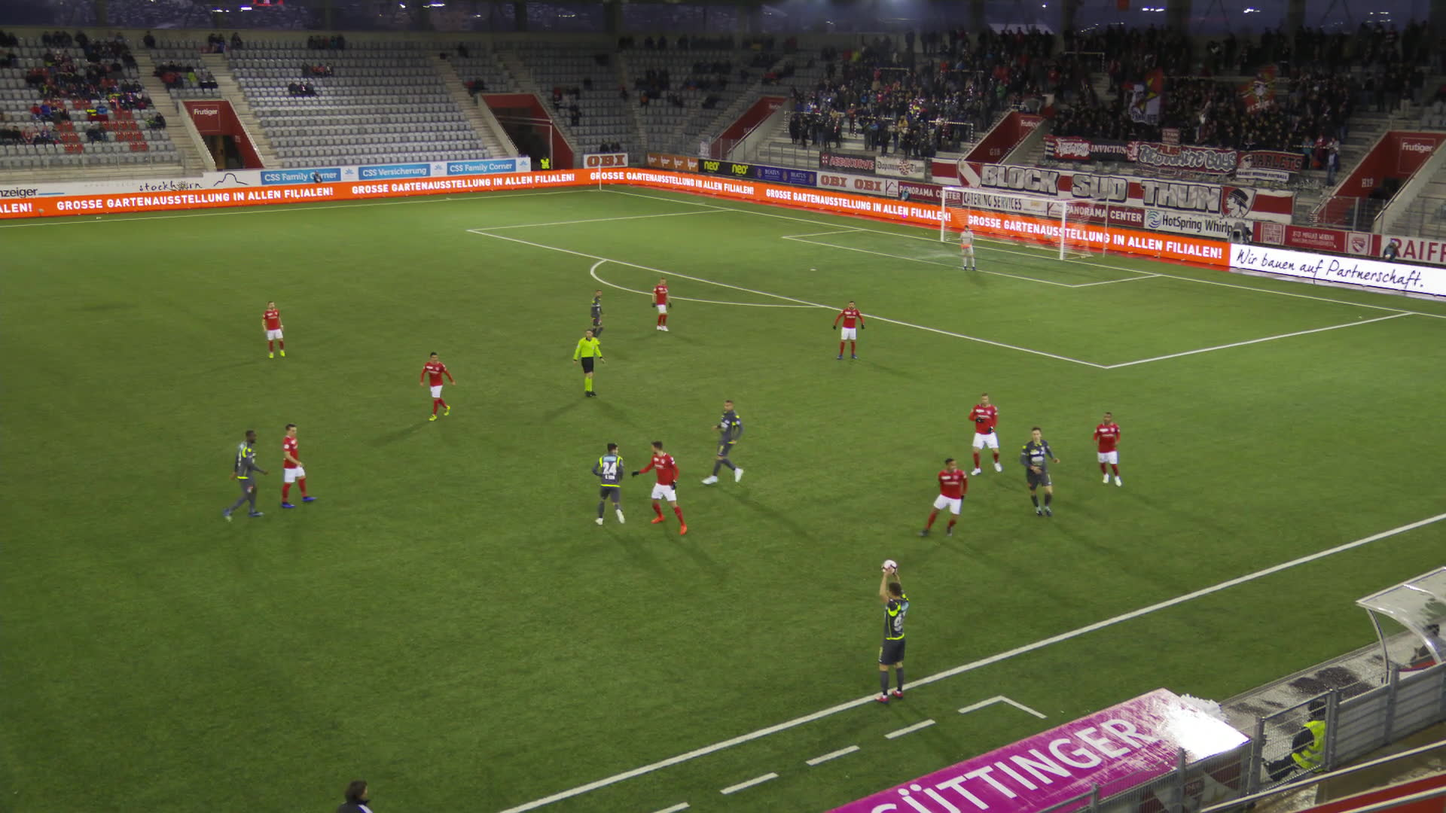ball: (880, 557, 898, 577)
player: (628, 437, 688, 537), (870, 557, 910, 705), (913, 455, 969, 540), (221, 428, 270, 522), (700, 397, 747, 489), (271, 421, 319, 509), (1018, 423, 1061, 520), (966, 389, 1005, 480), (590, 440, 628, 528), (416, 350, 456, 423), (1089, 410, 1124, 489), (831, 299, 866, 364), (260, 299, 286, 359), (649, 274, 673, 332), (589, 288, 606, 345), (958, 224, 975, 272)
referee: (570, 327, 606, 399)
